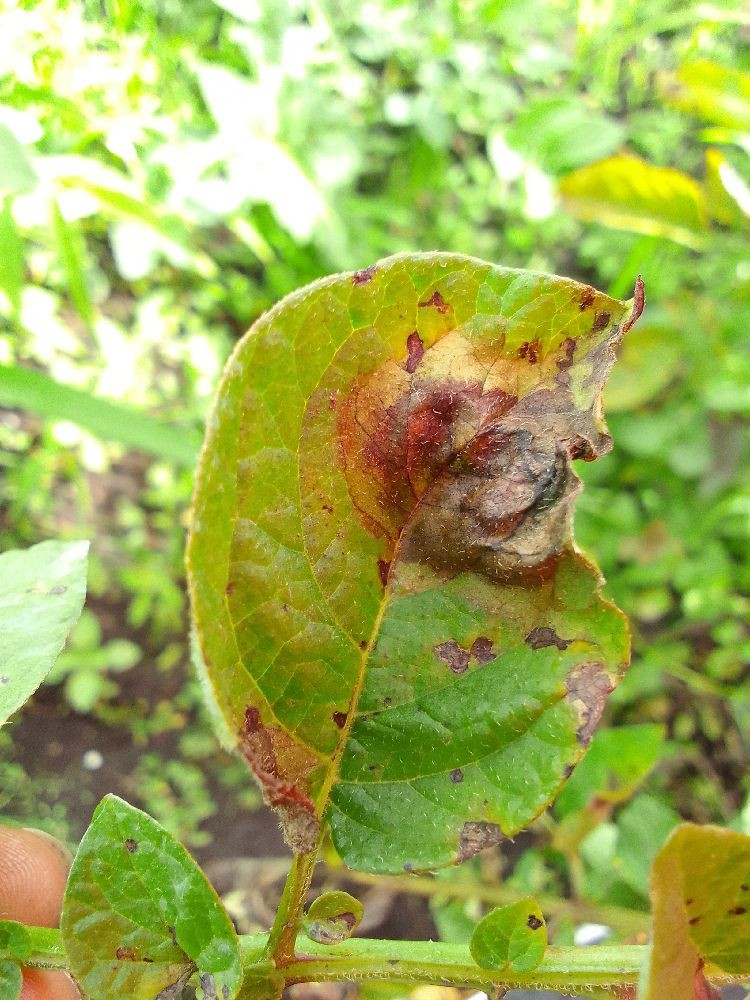late_blight: (436, 782, 616, 960), (40, 438, 177, 567), (9, 952, 97, 1000)
